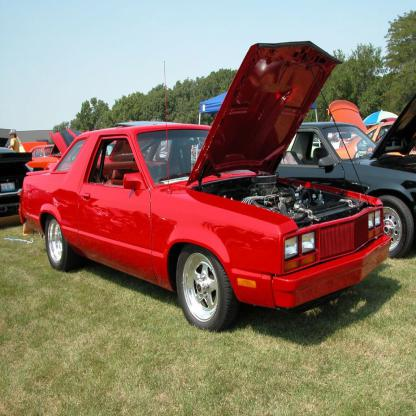Car: (0, 38, 416, 333)
